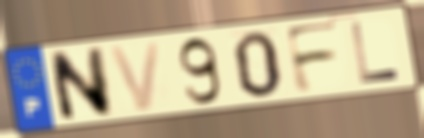0: (231, 29, 285, 99)
9: (176, 35, 224, 107)
F: (282, 19, 343, 97)
L: (348, 20, 404, 86)
N: (46, 45, 115, 125)
V: (106, 40, 164, 115)
